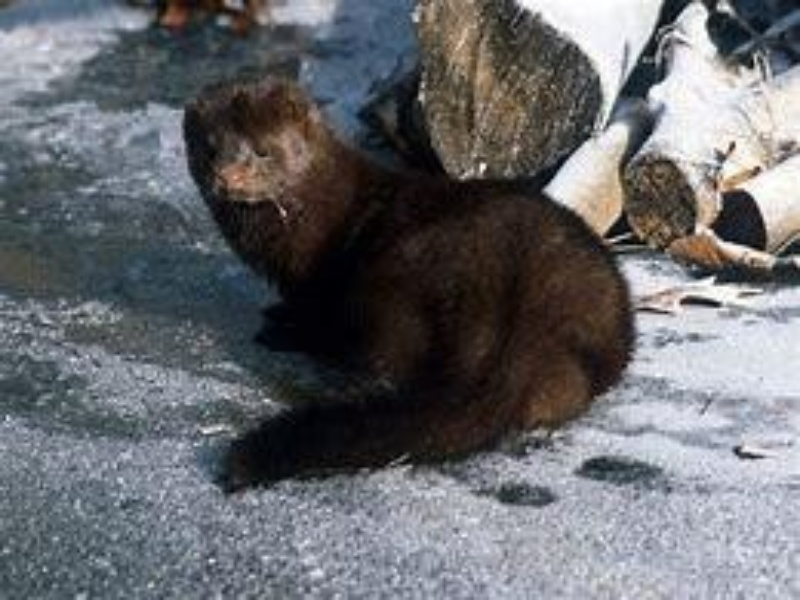minkish: (181, 70, 639, 496)
